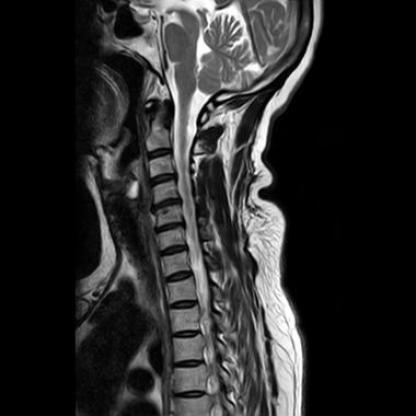Disc Bulgerotation: (152, 222, 185, 234)
Disc Protrusionrotation: (151, 197, 180, 213), (156, 244, 189, 258)
